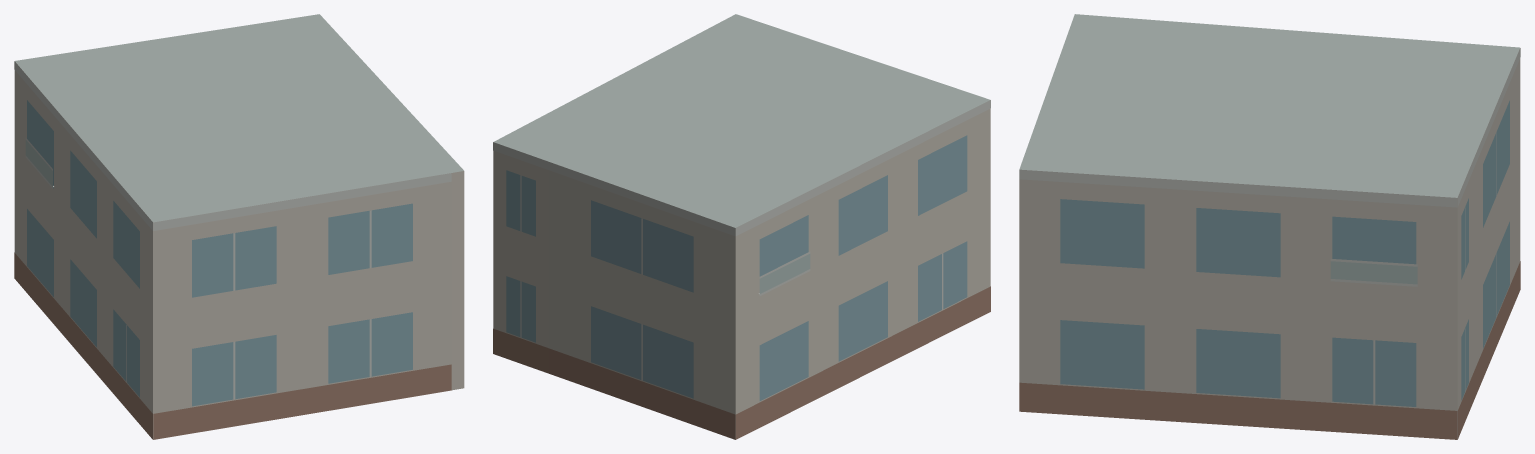
File: survey-upis-32769476.glb
3 renders of one model, left to right at view 1: azimuth 30°, elevation 25°; view 2: azimuth 150°, elevation 25°; view 3: azimuth 270°, elevation 25°, orthographic. The views are drawn at different scales.
Parts seen in each view (by area): view 1: survey-upis-32769476.tmp; view 2: survey-upis-32769476.tmp; view 3: survey-upis-32769476.tmp.
Part boxes in pixels (left/top/right/bottom): survey-upis-32769476.tmp: left=14, top=14, right=464, bottom=439; survey-upis-32769476.tmp: left=493, top=14, right=990, bottom=439; survey-upis-32769476.tmp: left=1019, top=14, right=1520, bottom=439.
Bounding box in the file's own units: 9.95 × 6.1 × 11.45.
